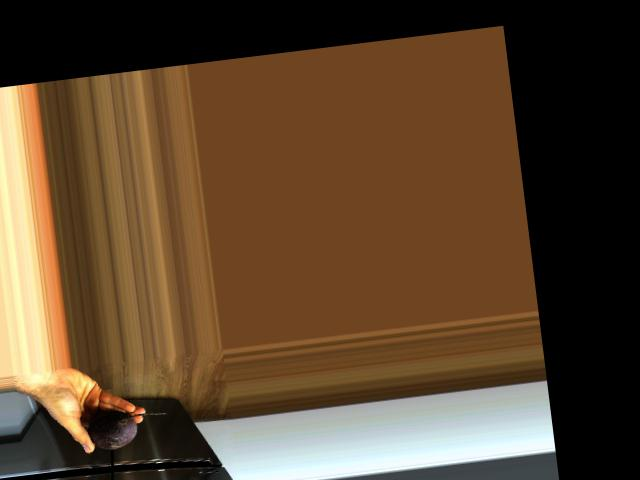beet: (86, 404, 171, 452)
